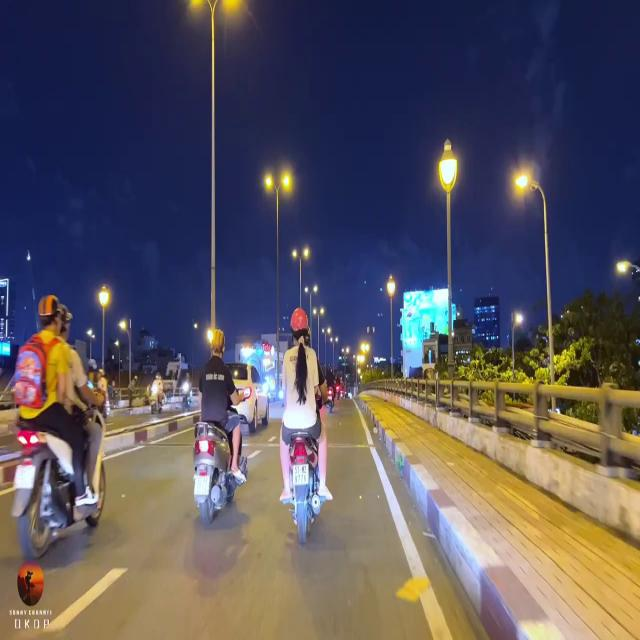bien_trang: (292, 462, 310, 488)
